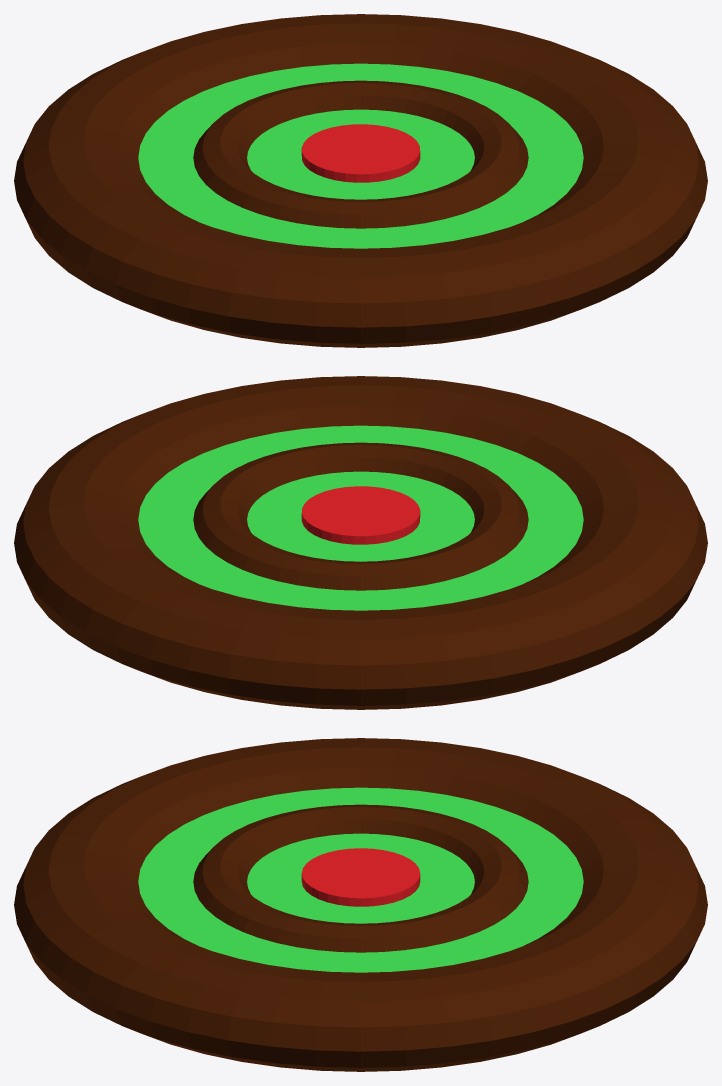
The model's file is temp_target.fbx.
3 views of the same model, one above another, from view 1: azimuth 30°, elevation 25°; view 2: azimuth 150°, elevation 25°; view 3: azimuth 270°, elevation 25° (orthographic).
Parts seen in each view (by area): view 1: Cylinder.001; view 2: Cylinder.001; view 3: Cylinder.001.
Boxes of the visible parts, bbox=[...] form: Cylinder.001: bbox=[14, 14, 707, 347]; Cylinder.001: bbox=[14, 376, 707, 709]; Cylinder.001: bbox=[14, 738, 707, 1071].
Size of the model in its own units: 493 by 63.27 by 493.
